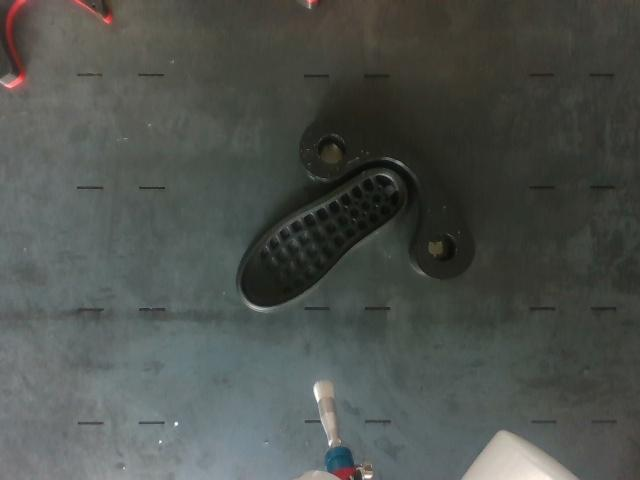shoes: (237, 168, 406, 310)
